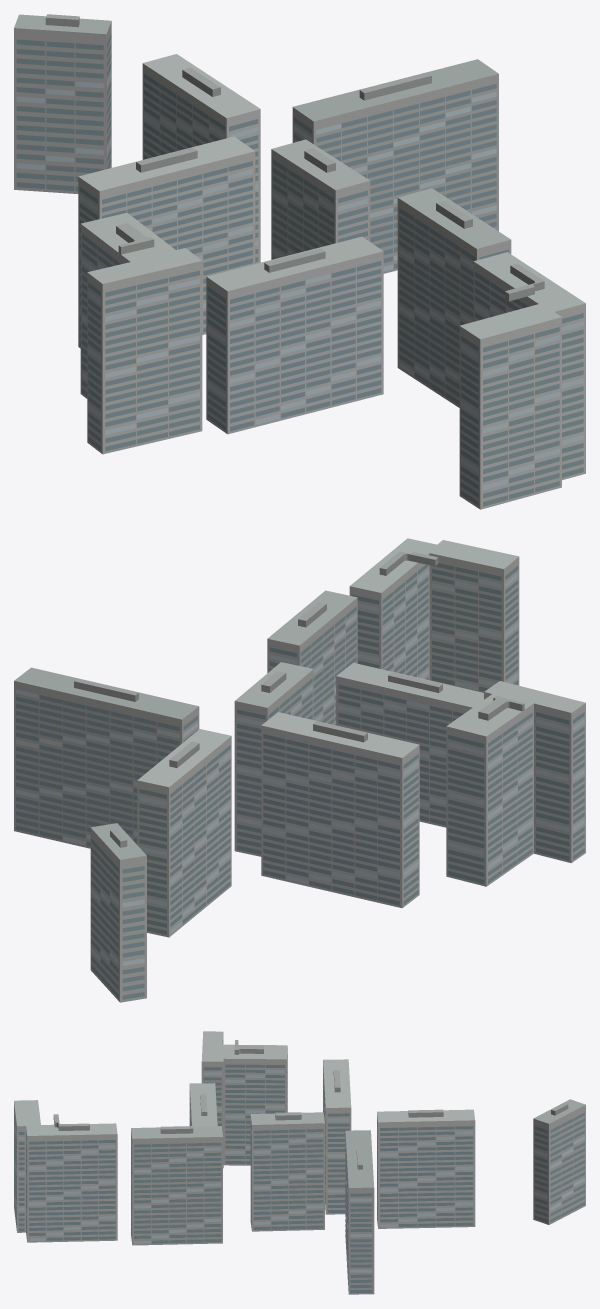
File: apt-a13610107.glb
3 renders of one model, top to bottom at view 1: azimuth 30°, elevation 25°; view 2: azimuth 150°, elevation 25°; view 3: azimuth 270°, elevation 25°, orthographic. The views are drawn at different scales.
Parts seen in each view (by area): view 1: apt-a13610107; view 2: apt-a13610107; view 3: apt-a13610107.
Boxes of the visible parts, x1=… form: apt-a13610107: x1=14, y1=14, x2=585, y2=509; apt-a13610107: x1=14, y1=538, x2=585, y2=1002; apt-a13610107: x1=14, y1=1031, x2=585, y2=1294.
Bounding box in the file's own units: 172 × 57 × 265.
